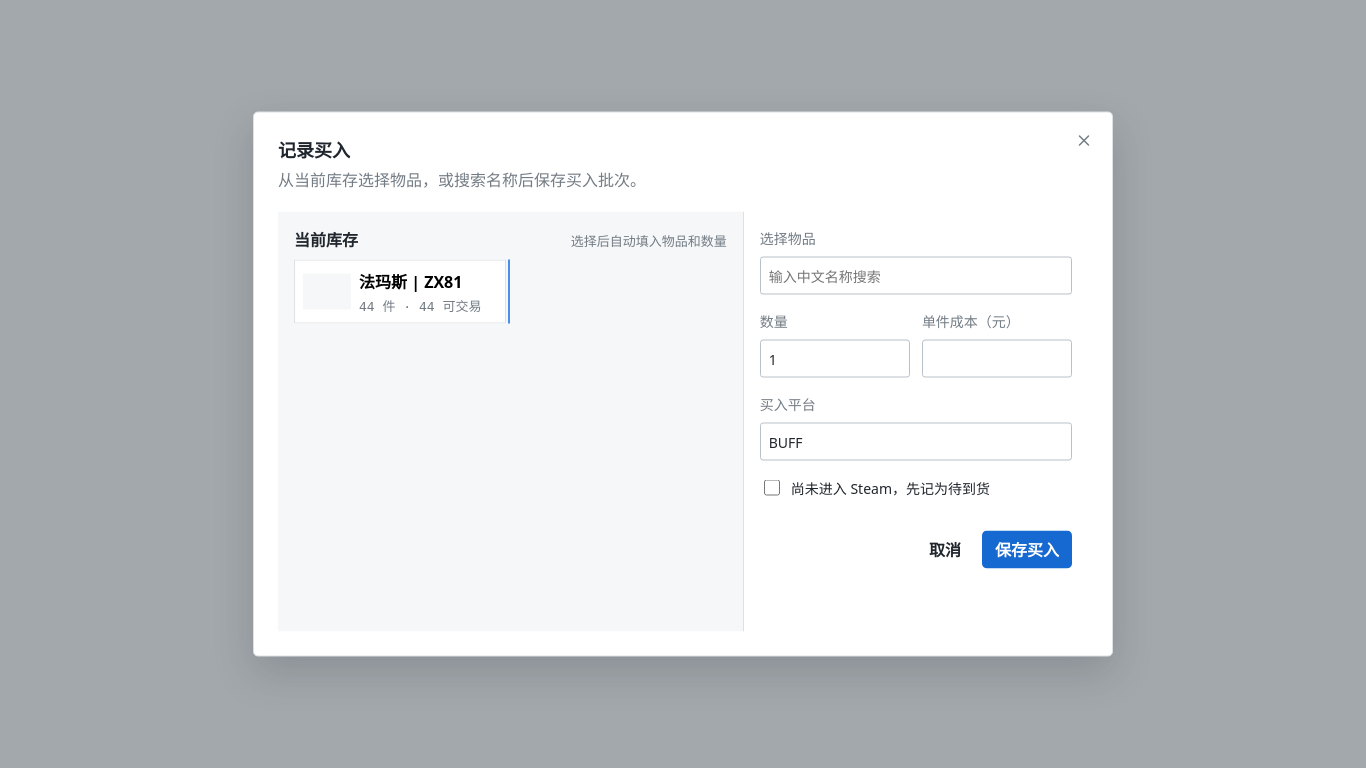
Test: LedgerEntryDialog inventory picker › lets a purchase start from a current inventory group
Click the button "法玛斯 | ZX81 44 件 · 44 可交易": (400, 292) x1=294 y1=260 x2=506 y2=324
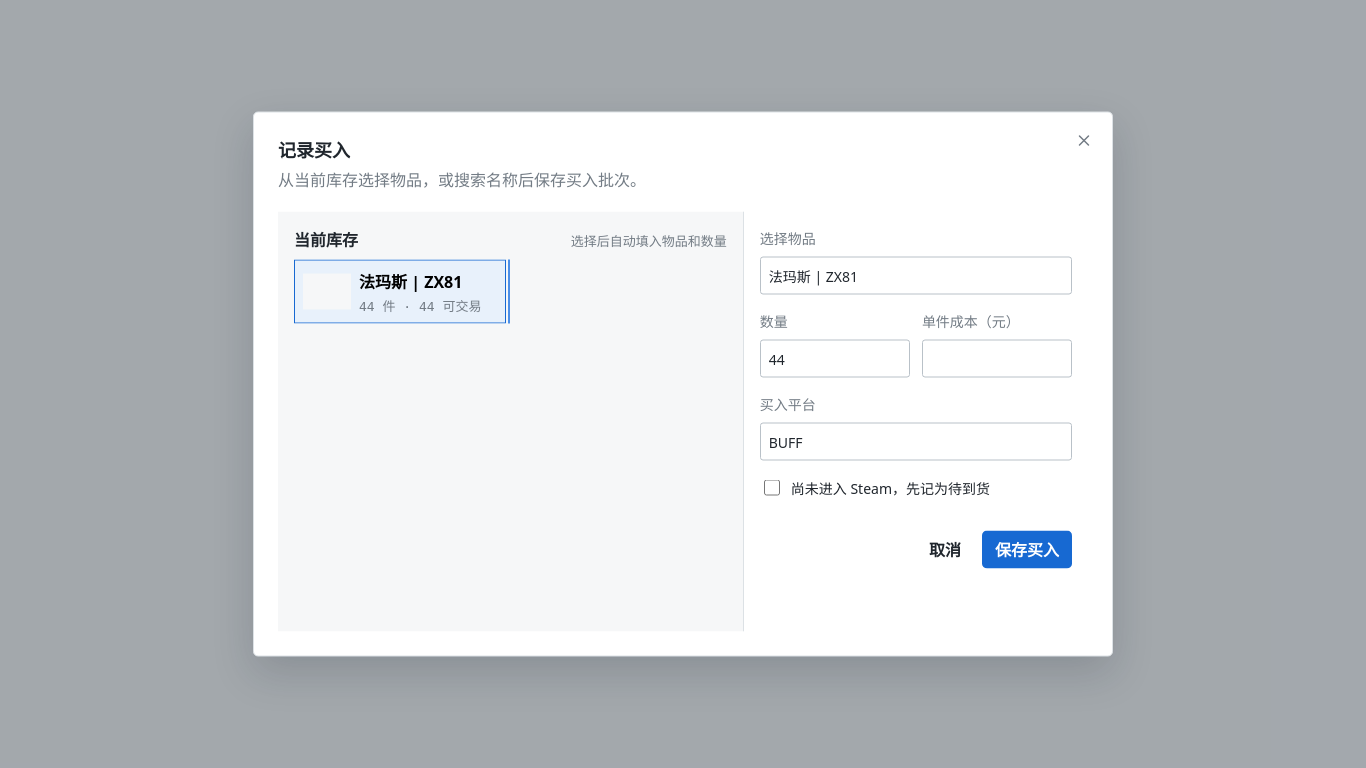
Result: the number field labelled "数量" holds "44" at x1=760 y1=340 x2=910 y2=378
Result: the field labelled "选择物品" holds "法玛斯 | ZX81" at x1=760 y1=256 x2=1072 y2=294
